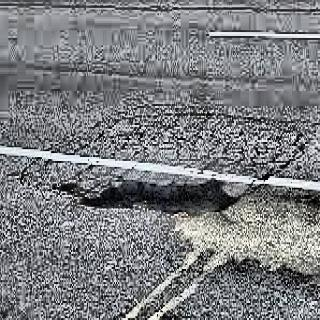alligator-crack: (83, 102, 307, 180)
pothole: (81, 168, 240, 218)
